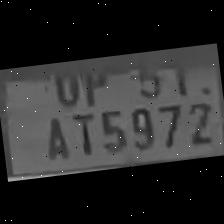1: (164, 48, 192, 96)
2: (178, 94, 215, 146)
5: (127, 52, 164, 100), (93, 104, 127, 154)
7: (152, 98, 186, 150)
9: (123, 100, 157, 150)
A: (36, 109, 73, 161)
P: (76, 58, 112, 106)
T: (65, 106, 99, 158)
U: (46, 61, 82, 108)
